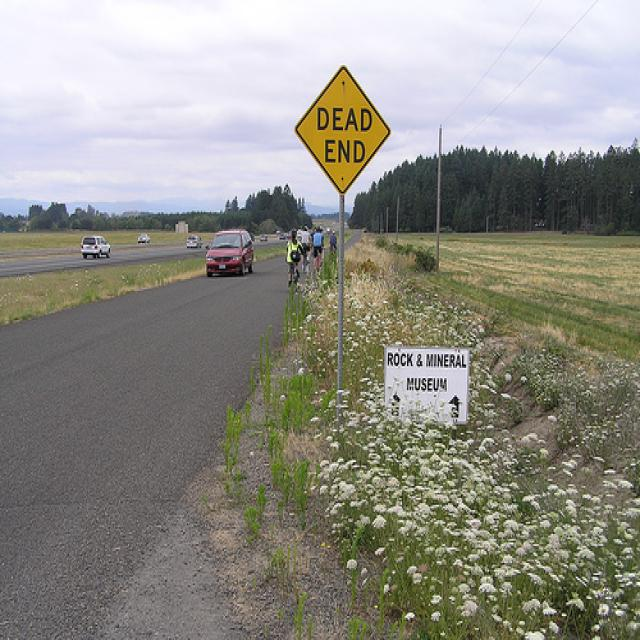light_vehicle: (203, 226, 254, 277), (78, 235, 111, 260), (183, 233, 201, 250)
